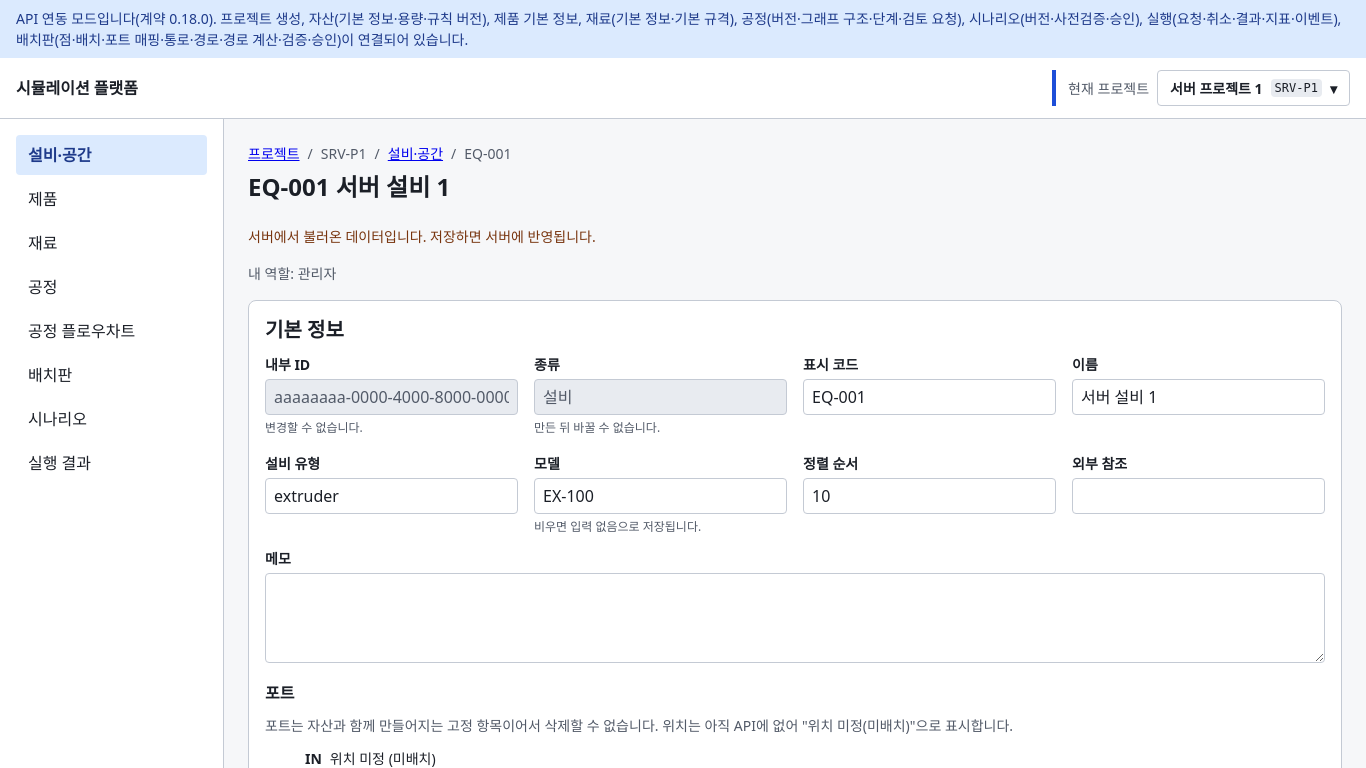
자산 기본 정보 저장 (PATCH) › 선택 필드를 비우면 null(입력 없음)로 보내고 서버 값도 지워진다
The width and height of the screenshot is (1366, 768).
Expected: the heading "EQ-001 서버 설비 1" is shown, [248,172,450,202]
Clear the field labelled "모델": (660, 496) [534,478,787,514]
(page scrolled)
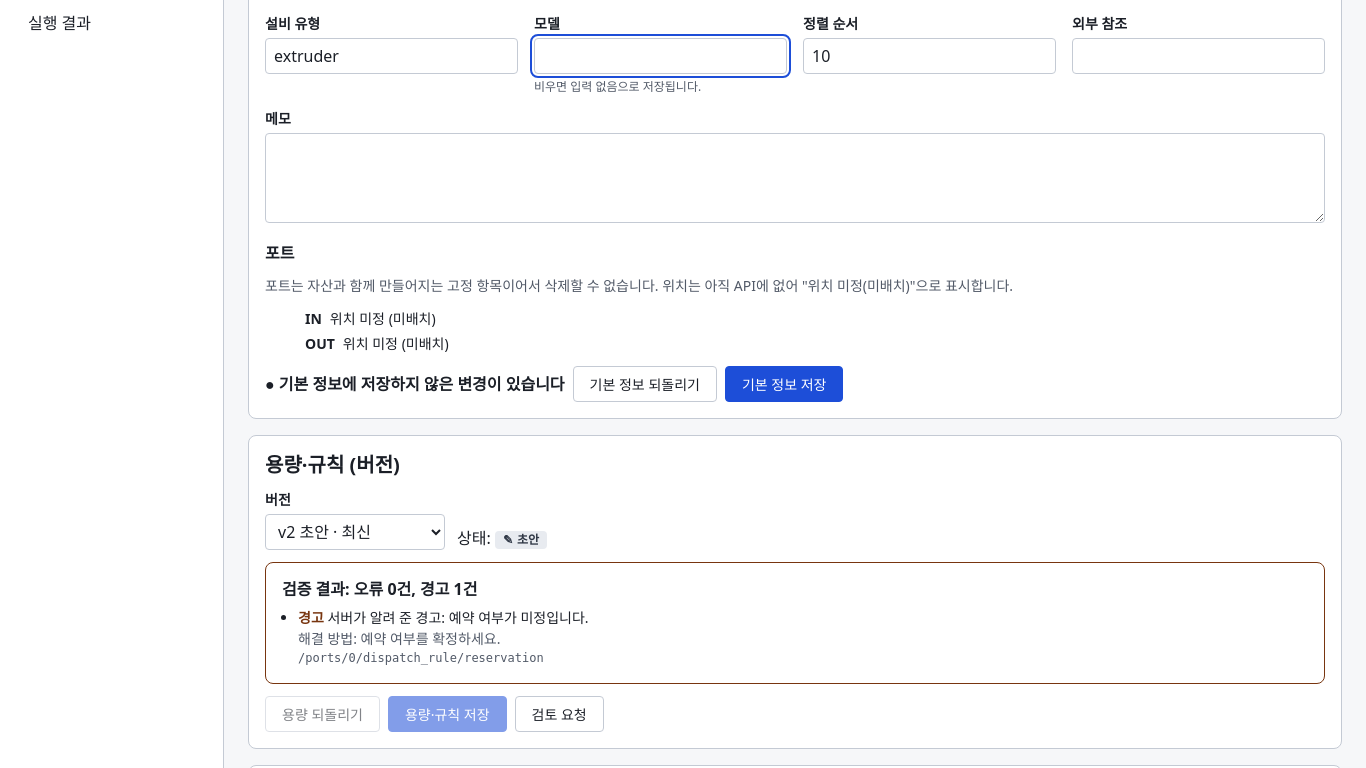
Click the button "기본 정보 저장": (784, 384) [725,366,844,402]
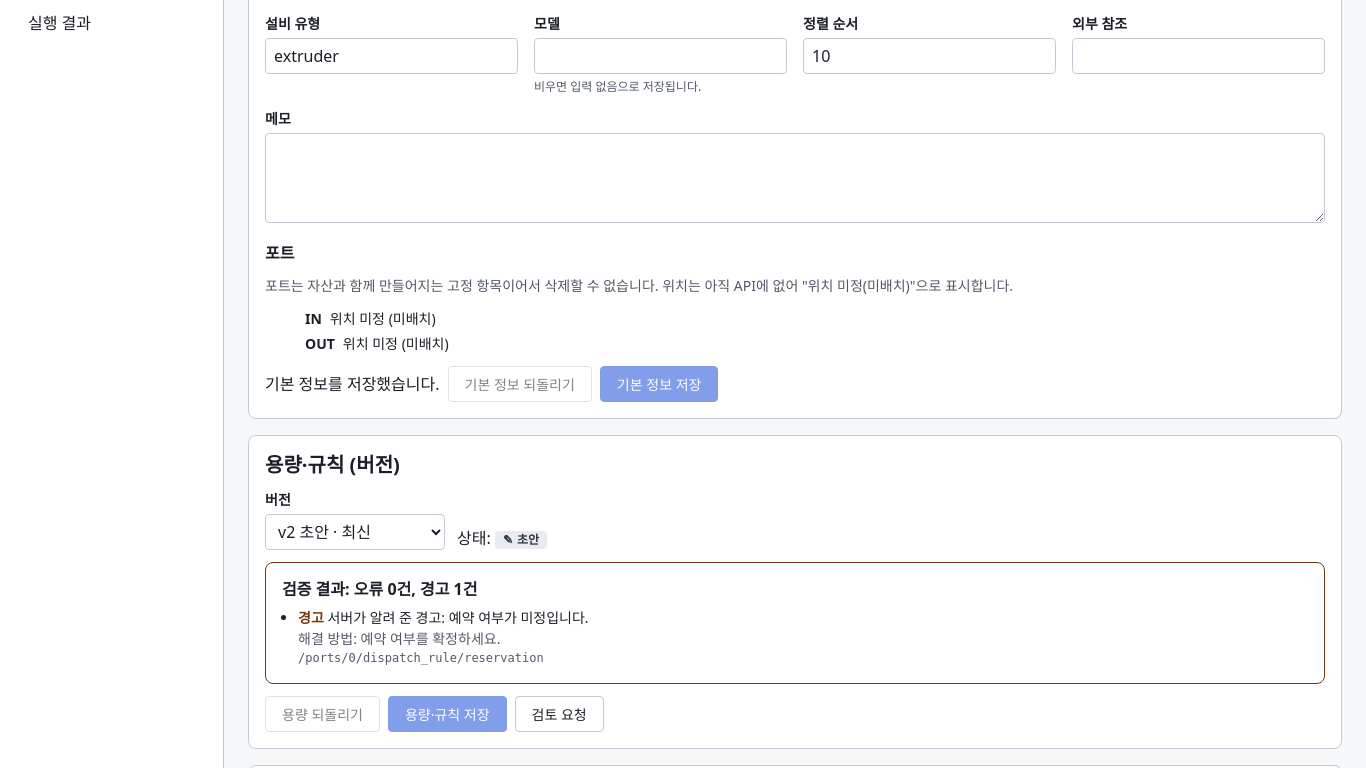
Expected: the text "기본 정보를 저장했습니다." is shown, [265,372,440,396]
